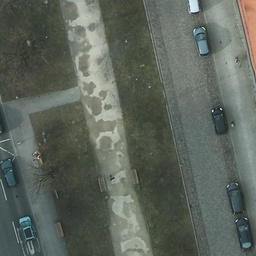car: (209, 105, 235, 134), (234, 219, 254, 250), (193, 25, 211, 57), (0, 158, 19, 188), (19, 216, 36, 243), (185, 0, 200, 16), (0, 105, 4, 136)
van: (222, 184, 252, 215)
